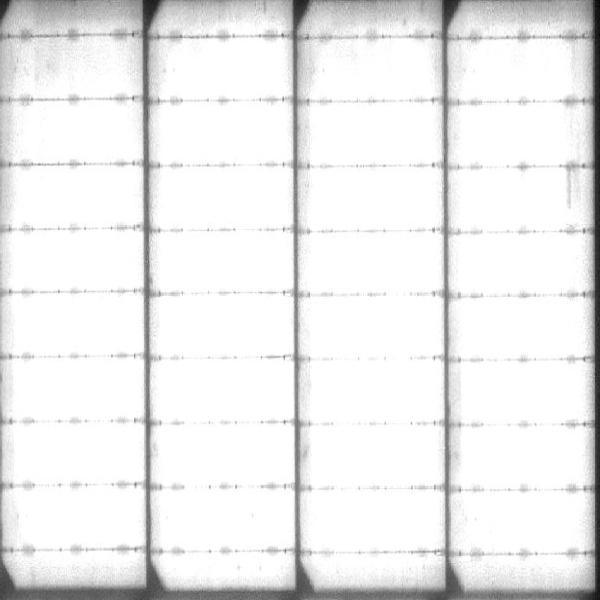hot_spot: (312, 428, 444, 482), (158, 296, 290, 350), (312, 300, 439, 356), (313, 364, 442, 417), (159, 236, 290, 287), (12, 490, 142, 541), (304, 496, 445, 543), (162, 496, 293, 546), (163, 363, 286, 416), (455, 303, 585, 353), (456, 496, 585, 546), (164, 172, 290, 223), (457, 238, 583, 288), (463, 44, 577, 99), (313, 109, 435, 160), (313, 174, 435, 225), (309, 238, 438, 286), (165, 427, 287, 477), (171, 105, 287, 157), (463, 367, 585, 415), (462, 434, 588, 480), (18, 431, 140, 478), (28, 107, 141, 157), (465, 107, 570, 160), (22, 299, 137, 347), (26, 235, 137, 284), (18, 365, 138, 410), (26, 172, 135, 221), (172, 46, 283, 94), (459, 173, 564, 223), (324, 48, 428, 92), (170, 557, 284, 582), (15, 555, 138, 573), (323, 558, 420, 578)
